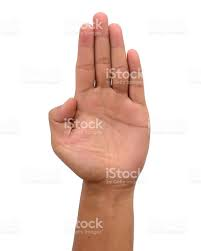hand: (45, 14, 171, 200)
